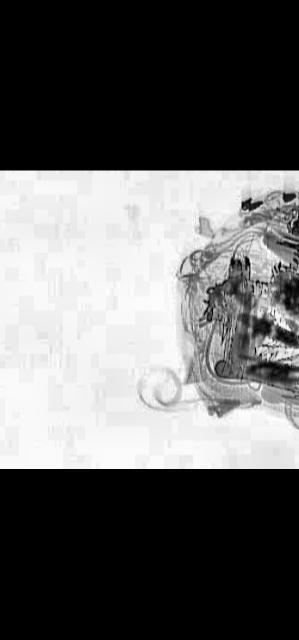Pliers: (234, 356, 299, 403)
